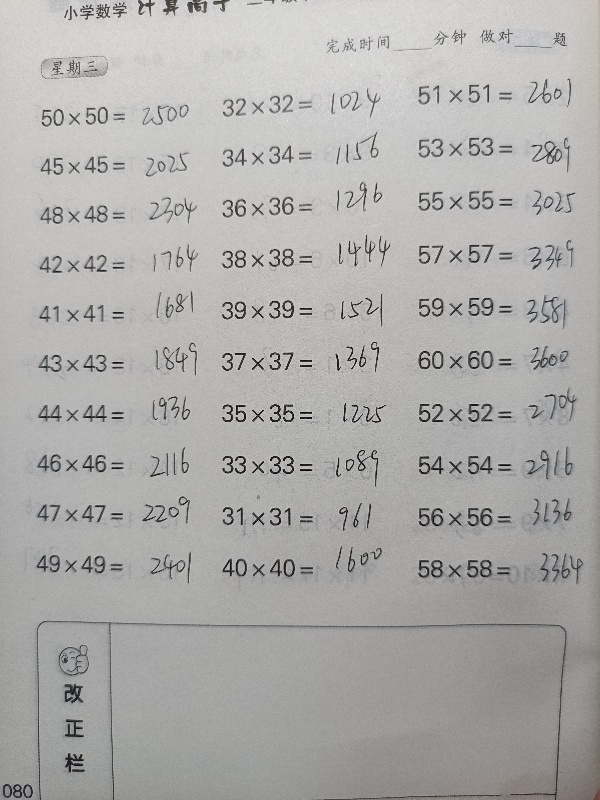equation: (1, 612, 173, 800), (416, 545, 592, 595), (30, 286, 211, 330), (30, 343, 211, 380), (214, 448, 394, 485), (213, 395, 393, 430), (410, 290, 590, 325), (213, 240, 393, 275), (409, 236, 589, 271), (213, 189, 393, 224), (409, 183, 589, 218), (409, 129, 589, 164), (409, 77, 589, 112), (214, 550, 394, 584), (410, 500, 590, 534), (213, 499, 393, 533), (410, 448, 590, 482), (410, 396, 590, 430), (214, 345, 394, 379), (409, 343, 589, 377), (212, 293, 392, 327), (31, 148, 211, 182), (32, 99, 212, 133), (214, 88, 394, 122), (27, 547, 207, 580), (29, 497, 209, 530), (29, 447, 209, 480), (29, 397, 209, 430), (30, 247, 210, 280), (31, 198, 211, 231), (213, 139, 393, 172)
